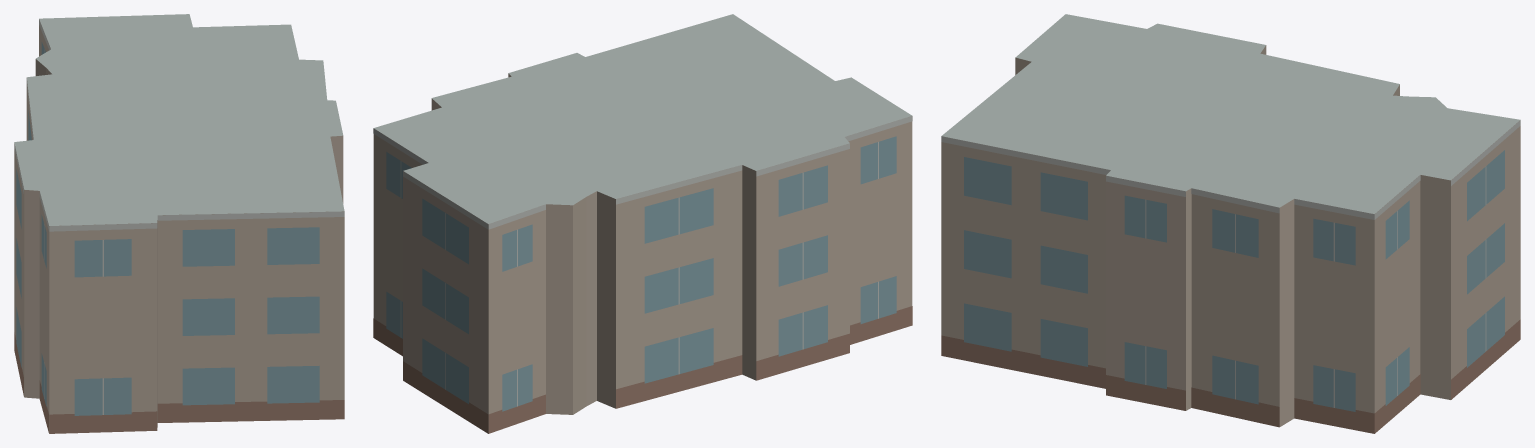
Rendered from survey-upis-32917649.glb.
3 views of the same model, side by side, from view 1: azimuth 30°, elevation 25°; view 2: azimuth 150°, elevation 25°; view 3: azimuth 270°, elevation 25° (orthographic). The views are drawn at different scales.
Visible parts, largest first — view 1: survey-upis-32917649.tmp; view 2: survey-upis-32917649.tmp; view 3: survey-upis-32917649.tmp.
Part boxes in pixels (x1,y1,x2,y2): survey-upis-32917649.tmp: (14, 14, 344, 433); survey-upis-32917649.tmp: (373, 14, 912, 433); survey-upis-32917649.tmp: (941, 14, 1520, 433).
Size of the model in its own units: 17.89 by 9.15 by 21.88.
